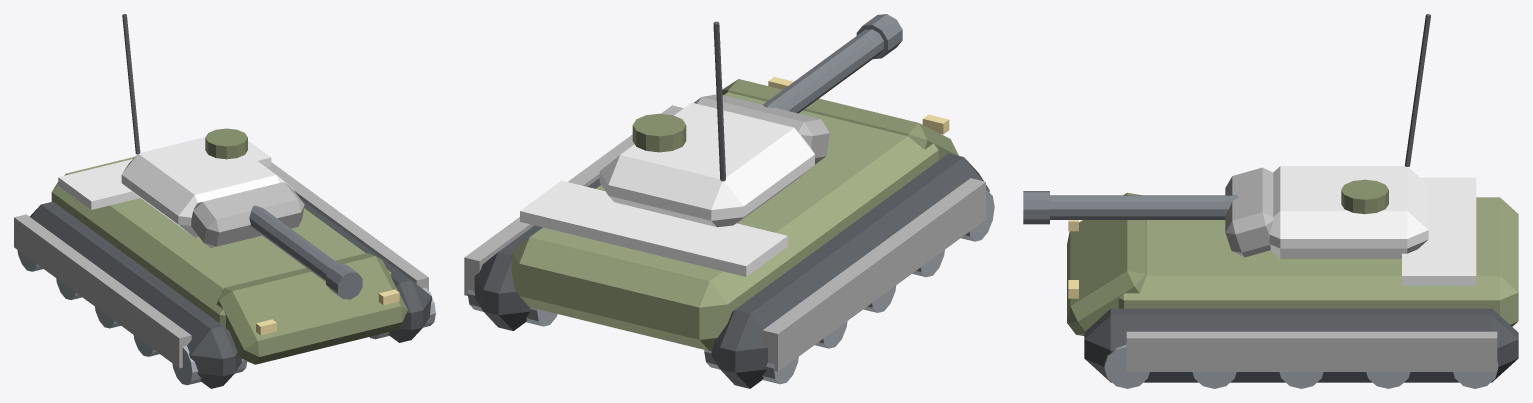
File: lighttank.glb
3 renders of one model, left to right at view 1: azimuth 30°, elevation 25°; view 2: azimuth 150°, elevation 25°; view 3: azimuth 270°, elevation 25°, orthographic. The views are drawn at different scales.
Parts seen in each view (by area): view 1: main, turret; view 2: main, turret; view 3: main, turret.
Boxes of the visible parts, x1=… form: main: x1=14, y1=140, x2=435, y2=388; turret: x1=121, y1=14, x2=362, y2=299; main: x1=464, y1=77, x2=994, y2=388; turret: x1=599, y1=14, x2=902, y2=227; main: x1=1067, y1=177, x2=1518, y2=388; turret: x1=1023, y1=14, x2=1430, y2=258.
Size of the model in its own units: 0.61 by 0.6006 by 0.935.
